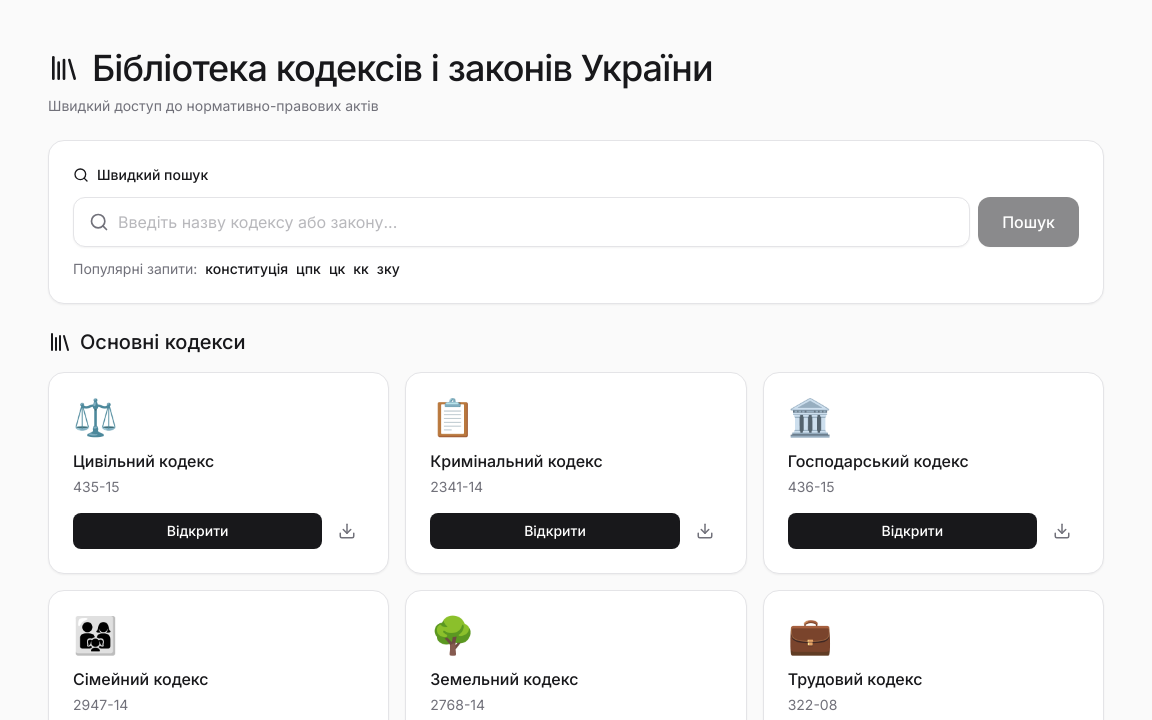
LegalCodesLibraryPage › Code viewer › navigates back to listing on back button
This screenshot has width=1152, height=720.
Click the button "Відкрити" below "435-15".
click(198, 531)  # box x1=73 y1=513 x2=322 y2=549
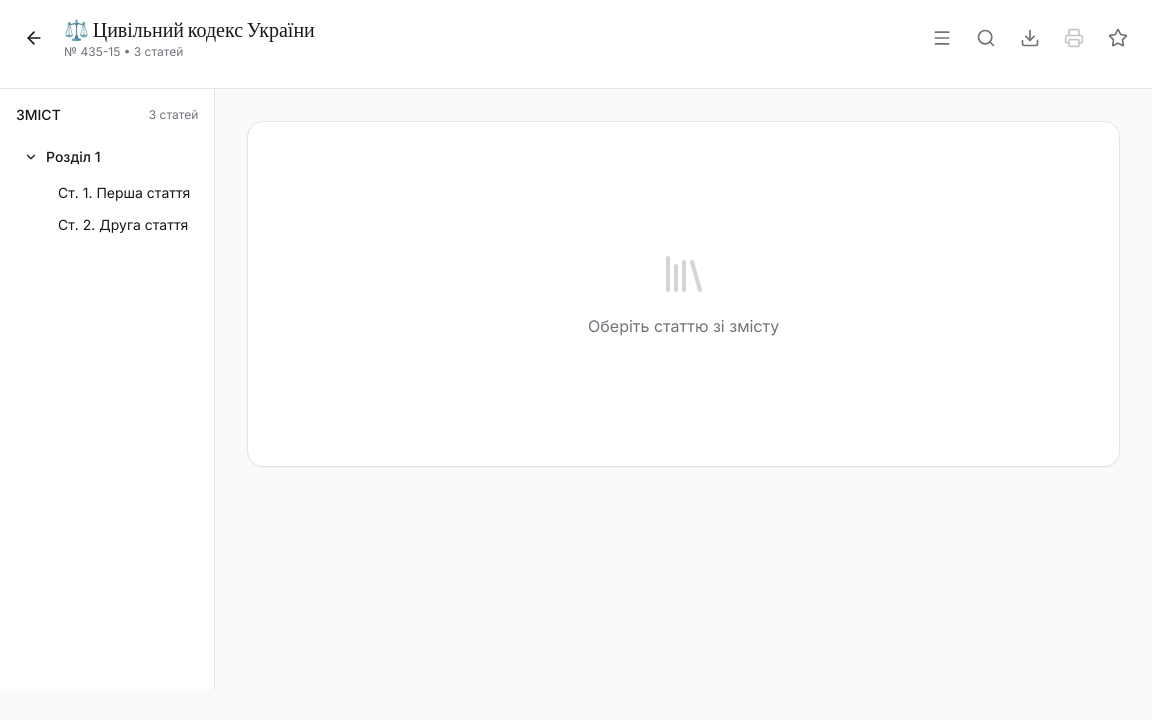
Expected: the heading "⚖️ Цивільний кодекс України" is shown, x1=64 y1=16 x2=315 y2=44
Click the 1st button.
click(34, 38)  # box x1=16 y1=20 x2=52 y2=56
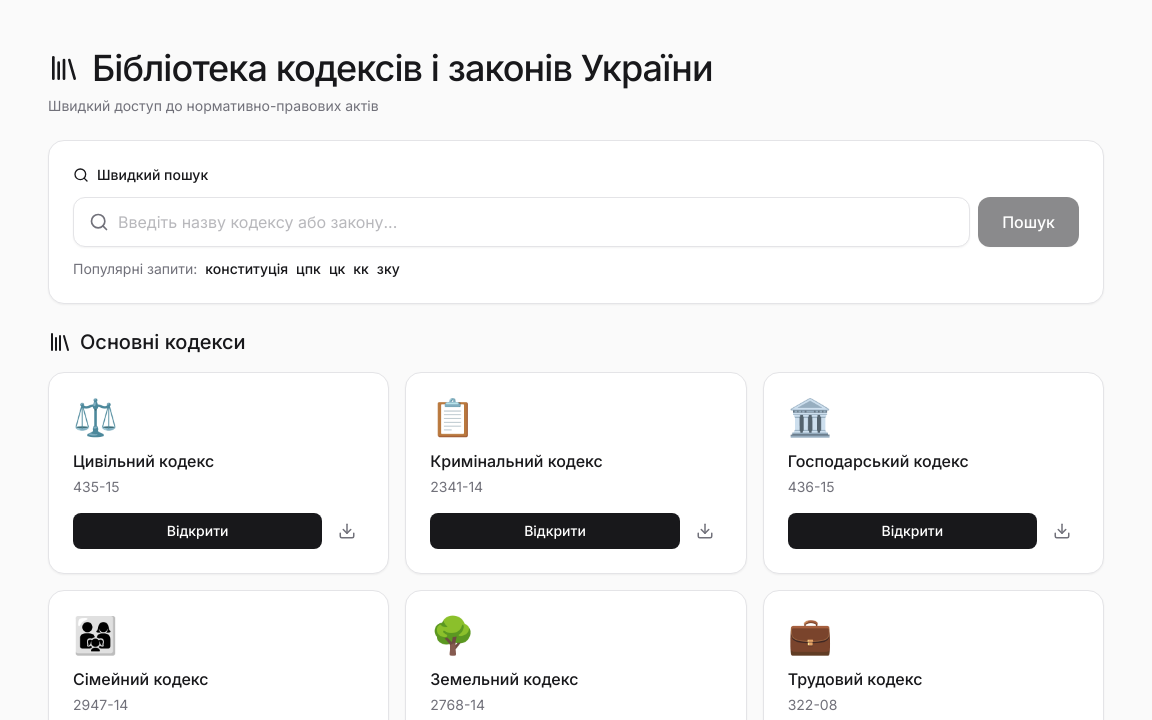
Expected: the heading "Бібліотека кодексів і законів України" is shown, x1=92 y1=48 x2=713 y2=88
